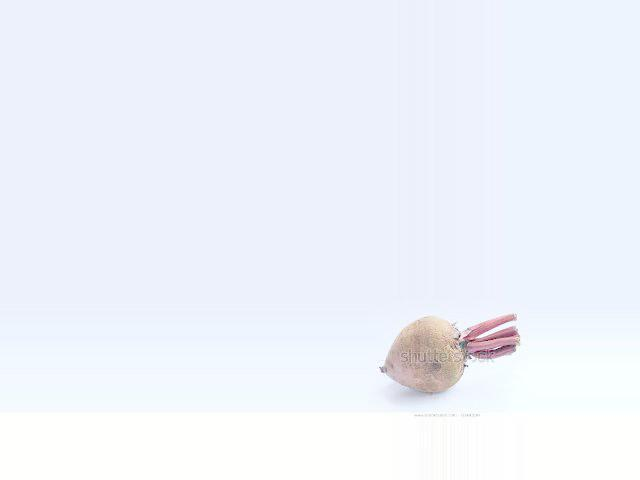beet: (381, 315, 518, 392)
